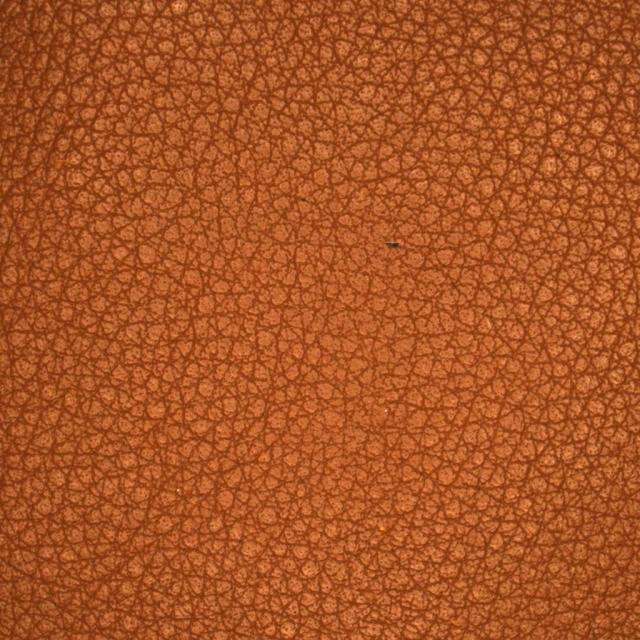Hole: (292, 192, 496, 294)
